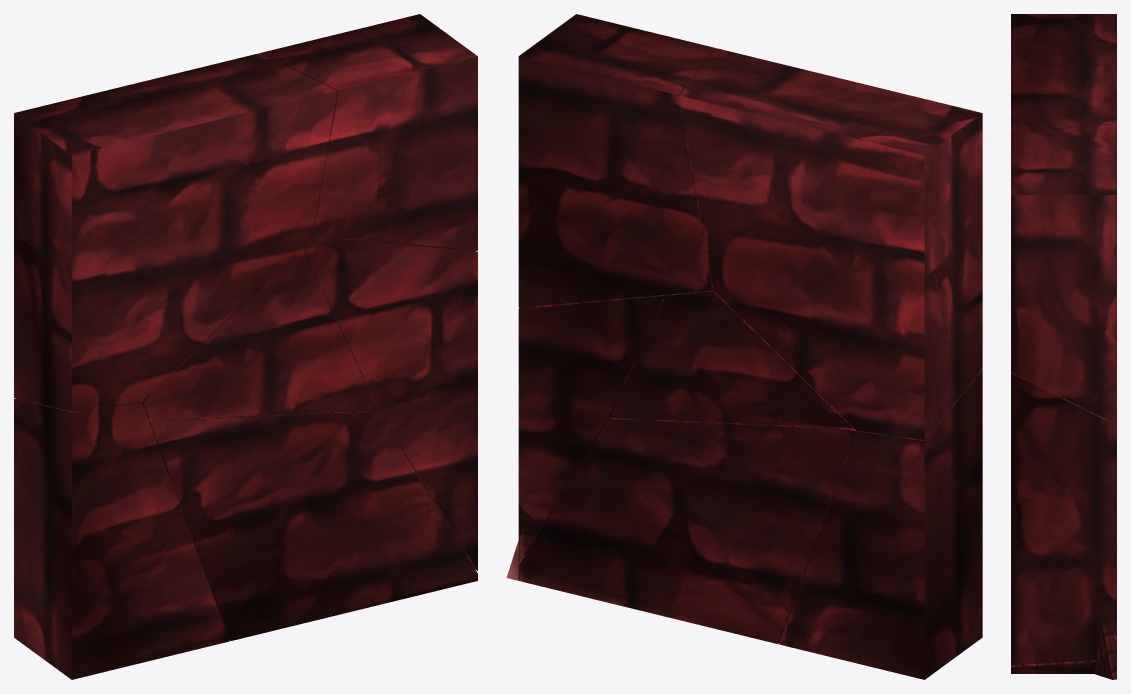
File: BLK0.fbx
3 views of the same model, side by side, from view 1: azimuth 30°, elevation 25°; view 2: azimuth 150°, elevation 25°; view 3: azimuth 270°, elevation 25° (orthographic). The views are drawn at different scales.
Parts seen in each view (by area): view 1: Block_LOD0.025, Block_LOD0.022, Block_LOD0.020, Block_LOD0.005, Block_LOD0.021, Block_LOD0.023; view 2: Block_LOD0.025, Block_LOD0.022, Block_LOD0.005, Block_LOD0.020, Block_LOD0.021, Block_LOD0.023; view 3: Block_LOD0.005, Block_LOD0.021, Block_LOD0.025, Block_LOD0.024, Block_LOD0.022.
Boxes of the visible parts, x1,y1,x2,y2 form: Block_LOD0.025: (14, 53, 337, 411); Block_LOD0.022: (148, 410, 477, 640); Block_LOD0.020: (14, 398, 229, 679); Block_LOD0.005: (260, 14, 477, 251); Block_LOD0.021: (302, 236, 477, 570); Block_LOD0.023: (140, 246, 377, 420); Block_LOD0.025: (679, 48, 982, 439); Block_LOD0.022: (518, 418, 857, 643); Block_LOD0.005: (518, 14, 715, 307); Block_LOD0.020: (779, 370, 982, 679); Block_LOD0.021: (518, 294, 666, 562); Block_LOD0.023: (609, 288, 853, 428); Block_LOD0.005: (1011, 123, 1116, 424); Block_LOD0.021: (1011, 372, 1116, 665); Block_LOD0.025: (1011, 14, 1116, 132); Block_LOD0.024: (1094, 623, 1116, 679); Block_LOD0.022: (1011, 660, 1095, 673).
Size of what is drawn, in the model's own units: 83.69 by 100 by 20.
